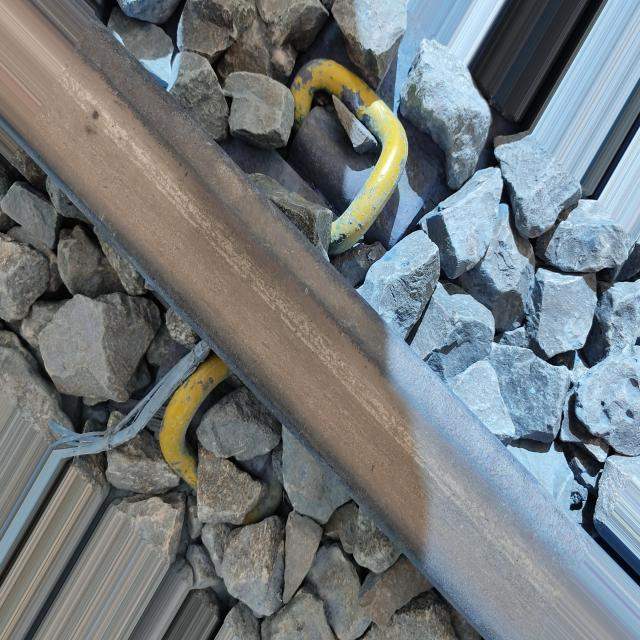Good Fasteners: (289, 59, 439, 254), (160, 354, 231, 487)
